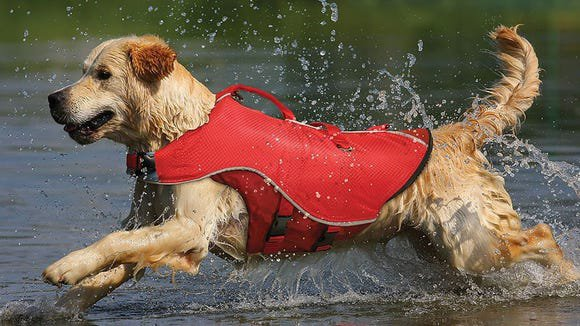dog: (40, 33, 539, 289)
